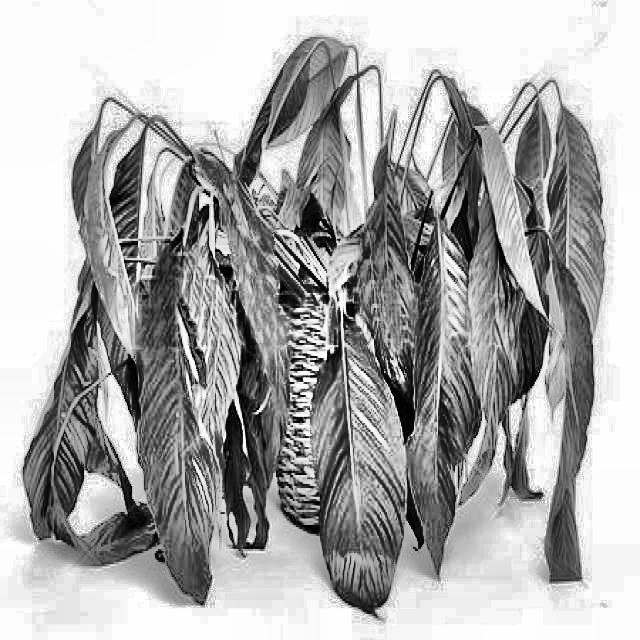plants: (17, 26, 610, 602)
